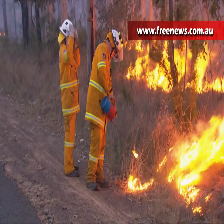fire_h: (121, 40, 224, 94), (168, 114, 223, 214), (127, 174, 155, 192)
fire_l: (157, 154, 167, 171), (205, 192, 213, 202), (192, 206, 202, 213), (131, 150, 138, 159), (1, 30, 5, 36)
